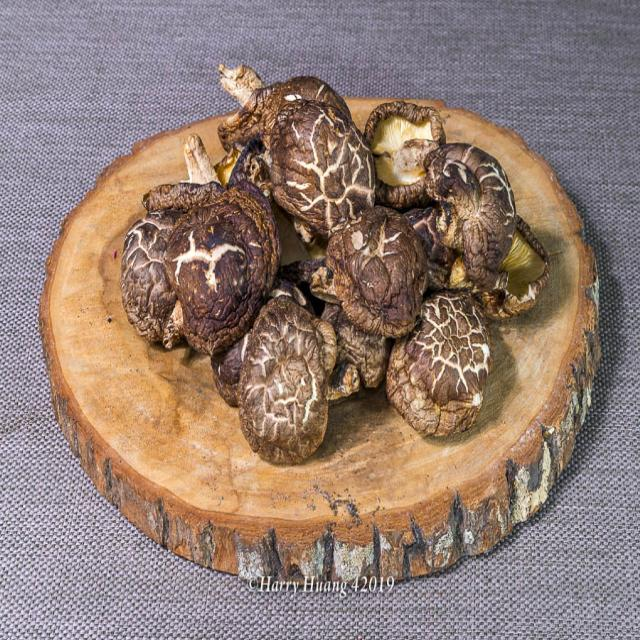Lentinus edodes: (239, 295, 339, 460), (385, 291, 496, 436), (270, 97, 379, 236), (175, 209, 268, 348), (420, 137, 518, 267), (330, 212, 429, 339), (118, 211, 188, 349), (450, 216, 550, 312), (367, 98, 444, 205)
